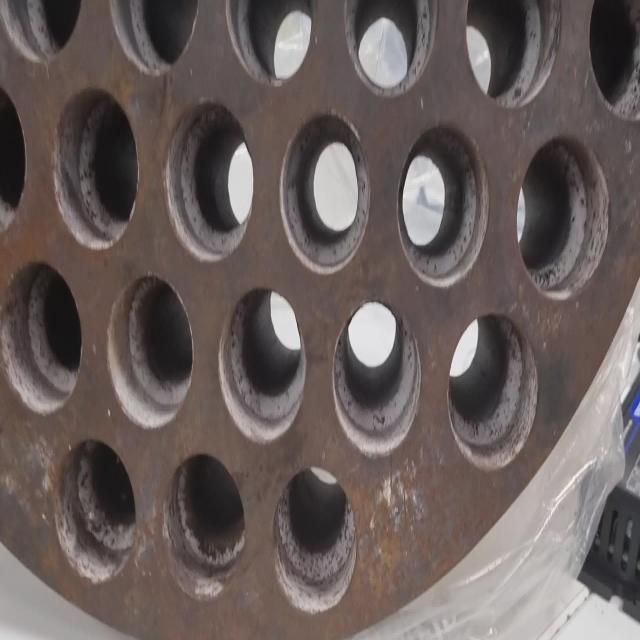Hole: (516, 135, 610, 301), (398, 121, 489, 288), (279, 110, 371, 275), (164, 99, 254, 264), (448, 312, 538, 471), (52, 86, 138, 250), (332, 300, 421, 458), (218, 285, 306, 444), (106, 274, 193, 429), (1, 259, 82, 415), (273, 466, 357, 616), (51, 437, 137, 583), (162, 451, 245, 601), (464, 0, 560, 108), (346, 1, 438, 99), (226, 0, 315, 86), (108, 1, 200, 75), (585, 0, 640, 122), (1, 0, 85, 64), (0, 76, 27, 244)
